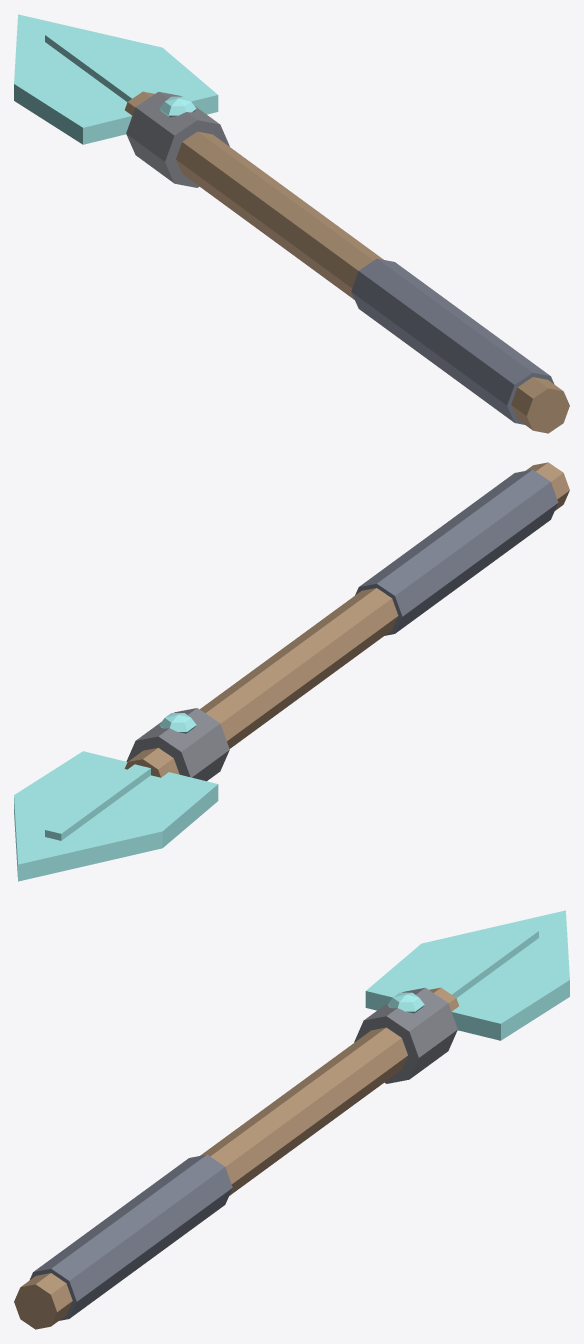
Rendered from diamond_shovel_held.gltf.
3 renders of one model, top to bottom at view 1: azimuth 30°, elevation 25°; view 2: azimuth 150°, elevation 25°; view 3: azimuth 330°, elevation 25°, orthographic.
Parts seen in each view (by area): view 1: furnace_diamond_shovel_held; view 2: furnace_diamond_shovel_held; view 3: furnace_diamond_shovel_held.
Boxes of the visible parts, box(x1,y1,x2,y2) form: furnace_diamond_shovel_held: box(14, 14, 569, 433); furnace_diamond_shovel_held: box(14, 462, 569, 881); furnace_diamond_shovel_held: box(14, 910, 569, 1329).
Size of the model in its own units: 0.11 by 0.0532 by 0.68.
